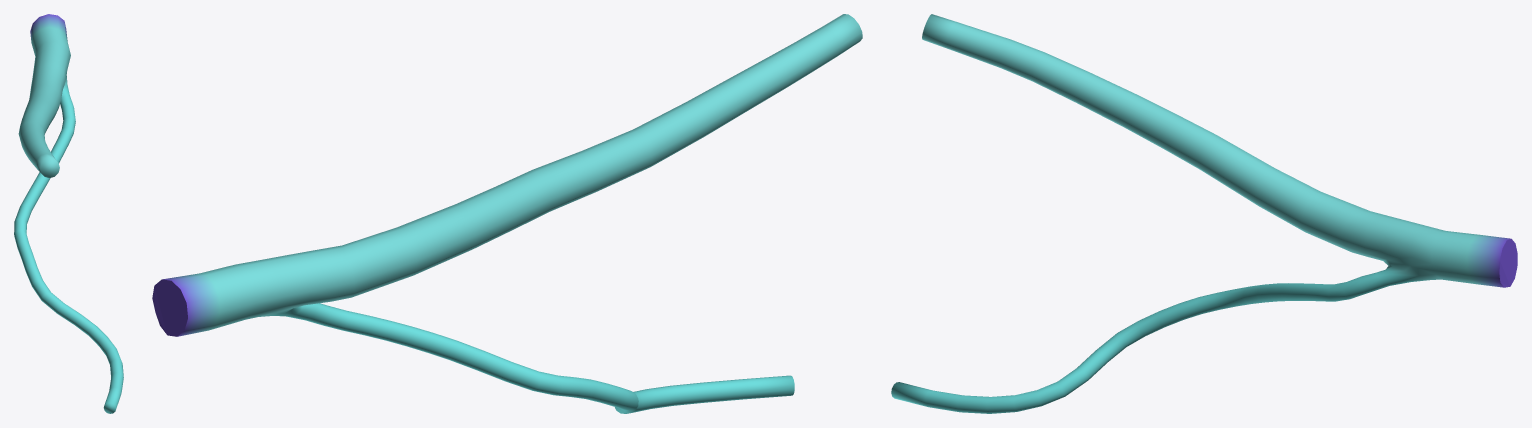
The model's file is Iliac_Right.FBX.
3 views of the same model, side by side, from view 1: azimuth 30°, elevation 25°; view 2: azimuth 150°, elevation 25°; view 3: azimuth 270°, elevation 25° (orthographic). The views are drawn at different scales.
Visible parts, largest first — view 1: Iliac_Right; view 2: Iliac_Right; view 3: Iliac_Right.
Part boxes in pixels (<box>): Iliac_Right: <box>14,14,123,413</box>; Iliac_Right: <box>152,14,862,413</box>; Iliac_Right: <box>891,14,1517,413</box>.
Bounding box in the file's own units: 96.86 × 102 × 165.
